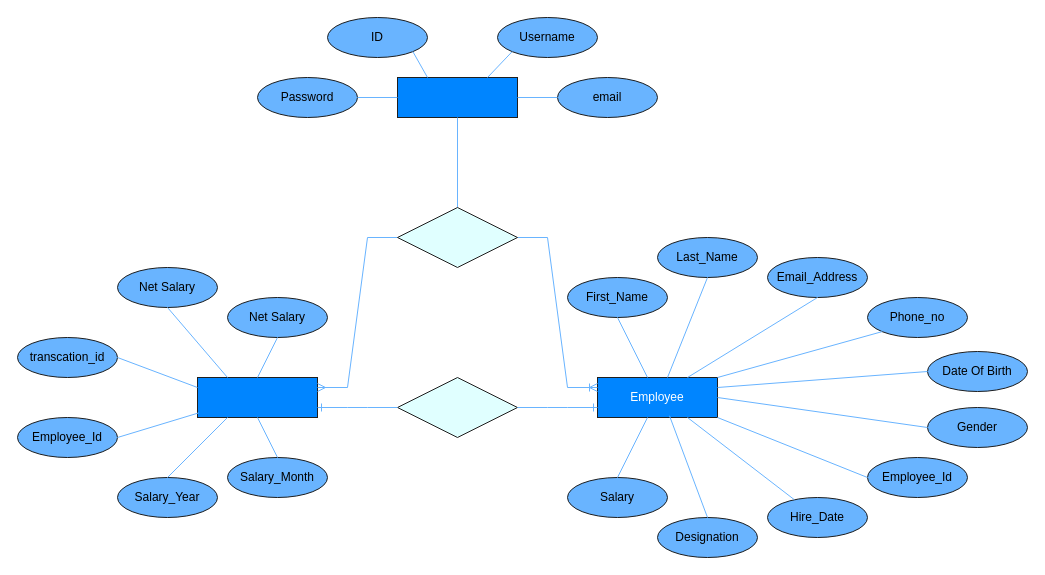
Some shapes in this 1045 by 575 pixel diagram are drawn without their labels. The centre of each missing label's shape, as x and y in pixels:
Admin: the point at 457,97
Manage: the point at 457,237
Payroll: the point at 257,397
Reciept: the point at 457,407
